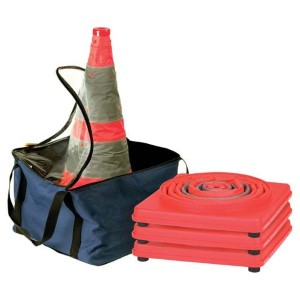traffic cone: (50, 27, 141, 199)
